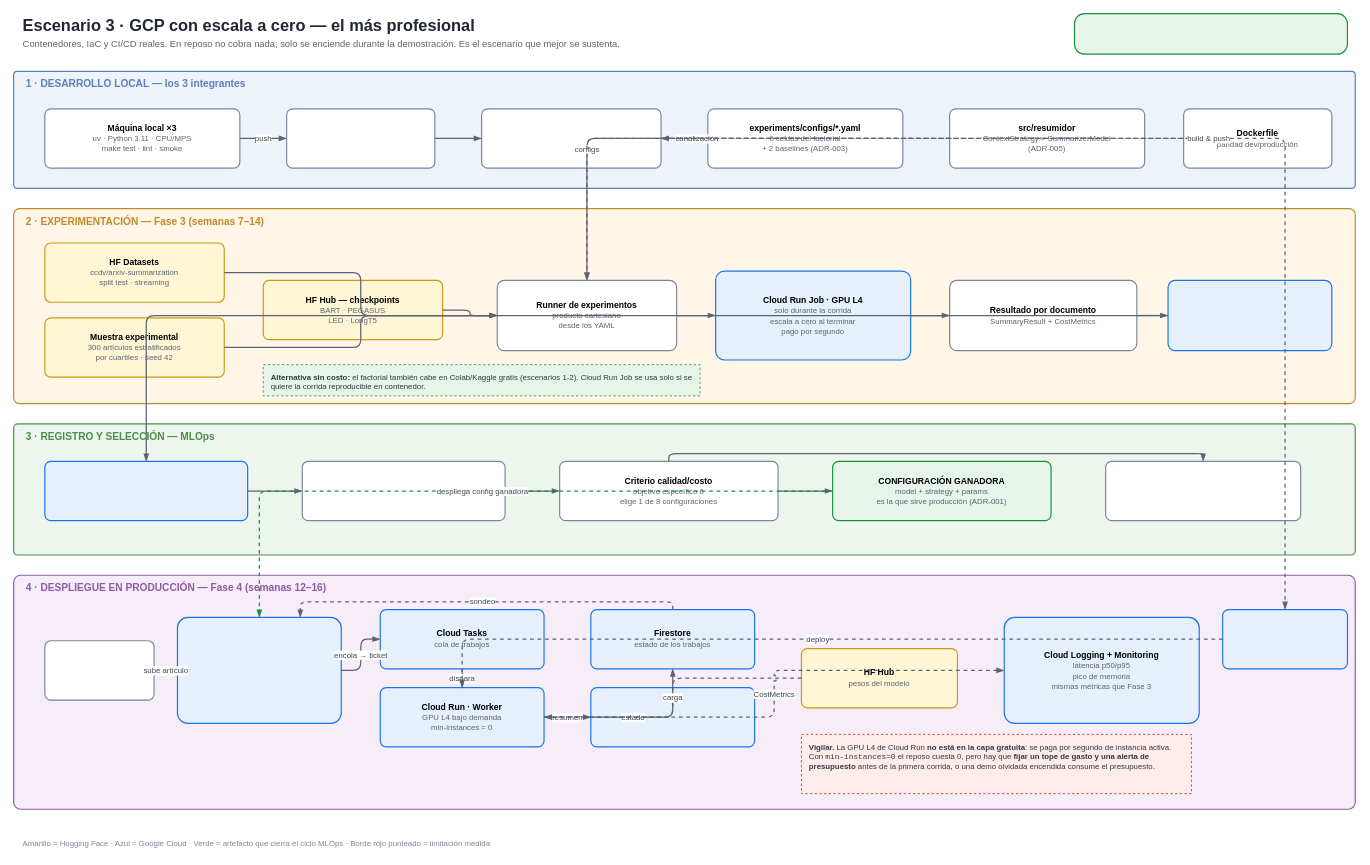
This 1370x865 diagram has some shape labels left out. The shapes that lost their labels are listed below. From the top down, each one's centre as x and y in pixels, then its label:
At (1211,33): "COSTO: ≈0 USD en reposo min-instances=0 · pocos USD por demo con GPU".
At (360,138): "GitHub carlosforeroudea/ps1-g2".
At (571,138): "GitHub Actions ruff + pytest · sin red capa gratuita".
At (1249,315): "Cloud Storage resultados crudos".
At (146,490): "Cloud Storage + BigQuery resultados crudos y métricas agregadas".
At (403,490): "Análisis estadístico tests pareados n=300 ROUGE · BERTScore · costo".
At (1203,490): "paper/ informe final figuras y tablas".
At (1285,639): "Artifact Registry imágenes".
At (99,670): "Usuario navegador".
At (259,670): "Cloud Run · UI Gradio / FastAPI min-instances = 0 capa gratuita".
At (672,717): "Cloud Storage resúmenes generados".
